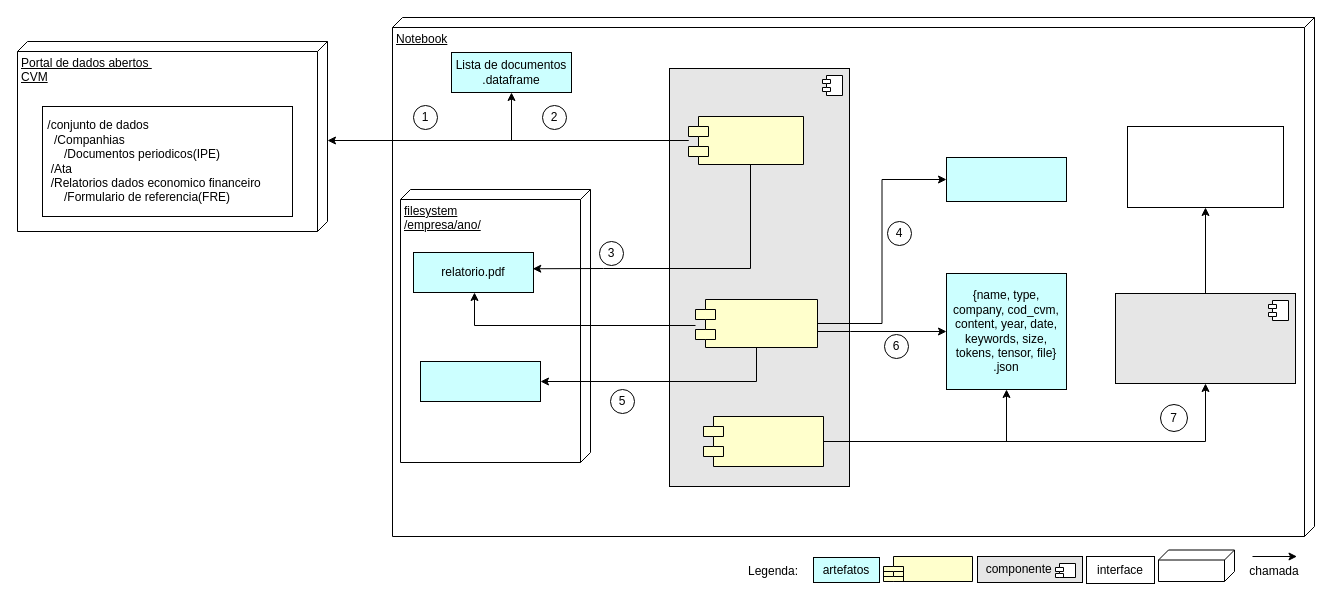
Image size: 1332x604. Some labels were removed from this diagram. Here are the shapes that lost their labels. From the top down, the centre of each, then its label:
At point 746,140: "download_doc".
At point 1006,179: "relatorio_txt .dataframe".
At point 1205,167: "SOLR http://localhost:8983/solr".
At point 756,323: "pre_proc".
At point 1205,338: "SOLR".
At point 480,381: "TOKENS_TENSOR .txt".
At point 763,441: "catalog".
At point 927,569: "módulo".
At point 1196,565: "ambiente".
